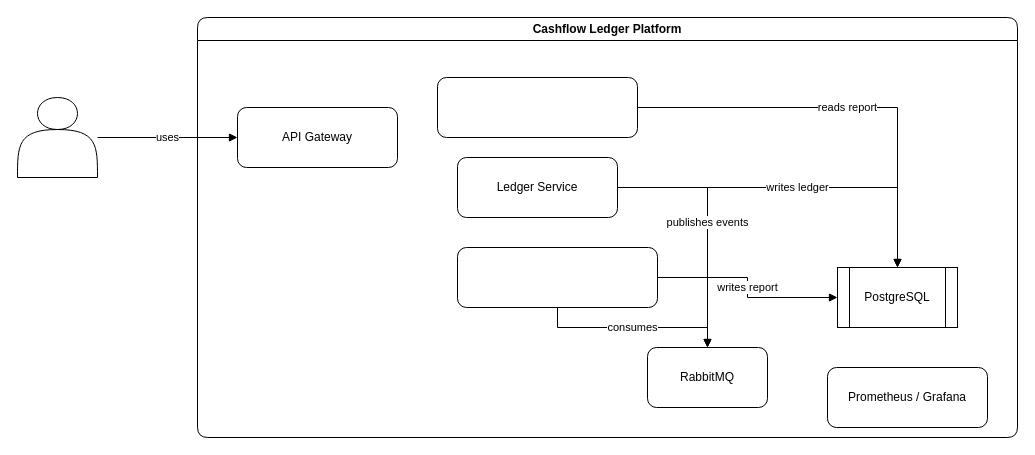
The diagram is 1035 pixels wide and 455 high, and some of its shapes have lost their labels. The centre of each missing label's shape, as x and y in pixels:
Balance Query Service: point (537, 107)
Consolidator Service: point (557, 277)
Customer: point (57, 137)
